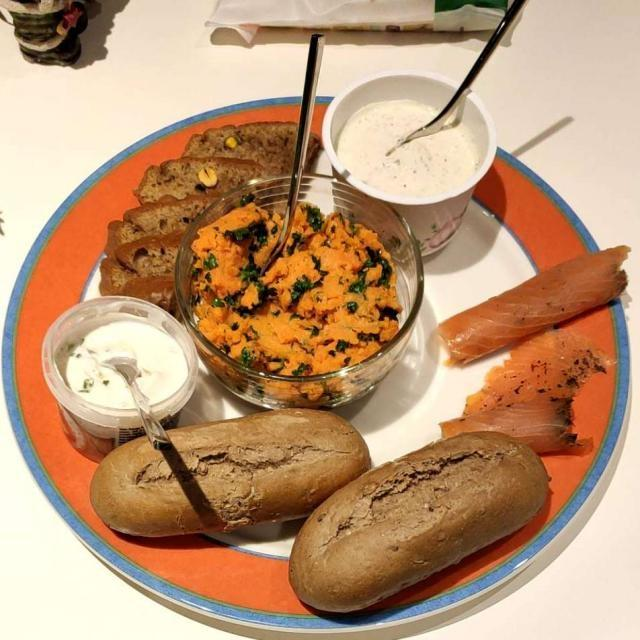bread: (82, 410, 553, 607)
cake: (95, 120, 302, 314)
cream-cheese: (350, 115, 479, 202)
salmon: (431, 243, 630, 458)
sour-cream: (55, 315, 177, 416)
sweet-potato: (199, 200, 391, 386)
